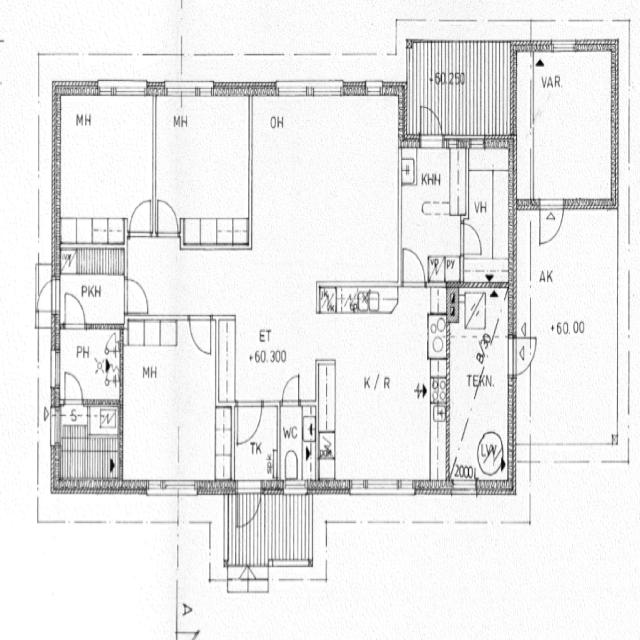door: (536, 198, 566, 248), (234, 398, 264, 448), (235, 484, 262, 532), (186, 312, 214, 358), (399, 244, 427, 289), (510, 329, 536, 377), (418, 102, 444, 149), (123, 273, 151, 316), (61, 288, 89, 330), (128, 194, 154, 238), (156, 194, 180, 237), (35, 275, 58, 317), (460, 218, 483, 257), (61, 368, 85, 405), (280, 370, 302, 408), (467, 132, 487, 151)
window: (275, 82, 343, 100), (349, 476, 409, 494), (162, 81, 214, 100), (98, 80, 146, 100), (272, 560, 312, 582), (397, 169, 406, 259), (157, 476, 198, 494), (282, 478, 310, 497), (50, 345, 61, 391), (549, 37, 577, 55), (50, 406, 60, 446), (468, 132, 486, 151)
zone: (250, 90, 400, 320), (318, 295, 441, 488), (524, 207, 618, 458), (120, 315, 217, 488), (56, 90, 153, 240), (156, 91, 250, 245), (530, 48, 616, 208), (449, 290, 512, 485), (400, 139, 466, 281), (54, 400, 122, 490), (466, 149, 511, 266), (58, 326, 123, 402), (57, 256, 124, 326), (230, 403, 280, 492), (279, 402, 317, 487), (87, 402, 121, 438)
